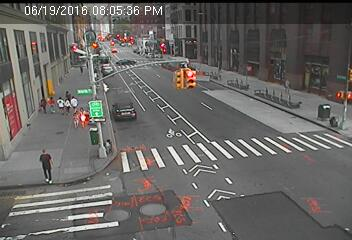neg: (92, 137, 107, 156), (314, 65, 325, 79), (273, 65, 282, 78)
pos: (30, 145, 60, 185), (44, 93, 58, 112), (52, 95, 66, 113), (61, 96, 74, 114), (36, 97, 49, 114), (282, 78, 294, 93), (70, 95, 80, 109), (64, 89, 71, 98)
